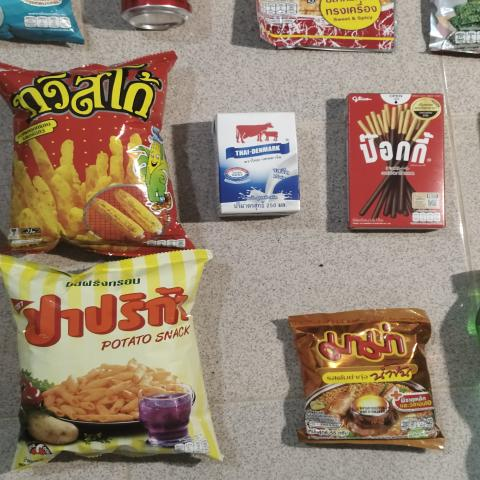mama: (286, 317, 438, 442)
paprika: (13, 263, 199, 454)
pokki: (346, 96, 446, 229)
thai_denmark: (207, 111, 304, 212)
twisco: (0, 62, 171, 226)
